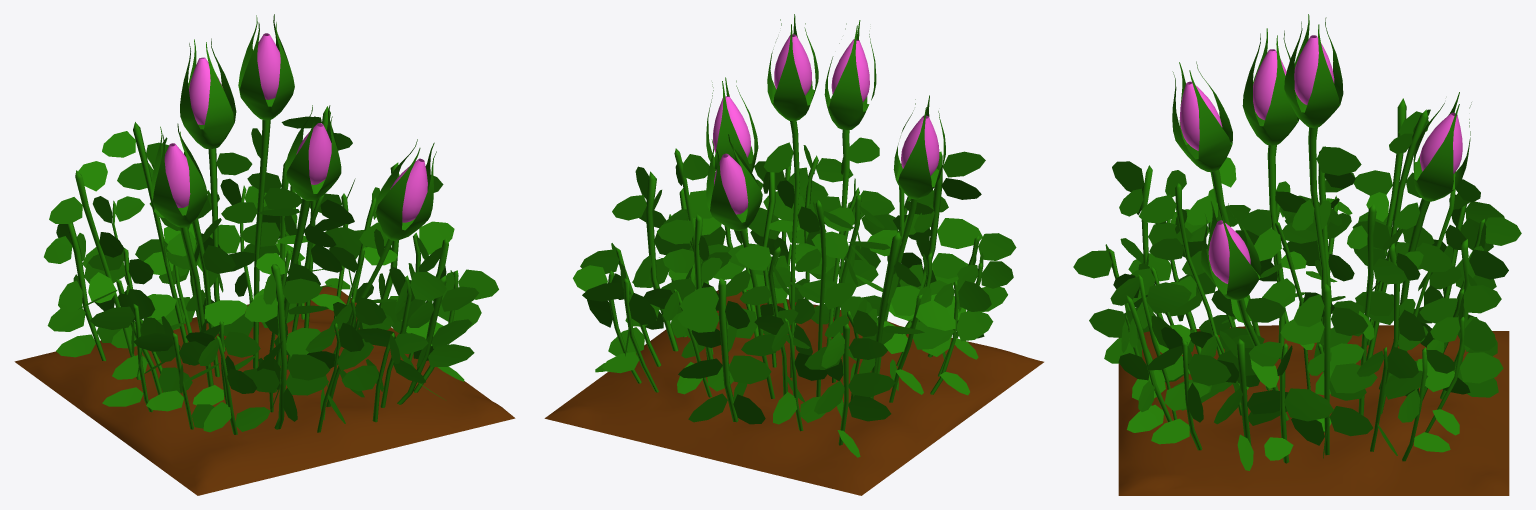
The model's file is pink-rose-p3-leaf.glb.
3 views of the same model, side by side, from view 1: azimuth 30°, elevation 25°; view 2: azimuth 150°, elevation 25°; view 3: azimuth 270°, elevation 25° (orthographic). The views are drawn at different scales.
Visible parts, largest first — view 1: 3_nft_out_of_bloom; view 2: 3_nft_out_of_bloom; view 3: 3_nft_out_of_bloom.
Part boxes in pixels (x1,y1,x2,y2): 3_nft_out_of_bloom: (14,14,515,495); 3_nft_out_of_bloom: (544,14,1043,495); 3_nft_out_of_bloom: (1073,14,1521,495).
Size of the model in its own units: 0.7993 by 0.7814 by 0.8042.
